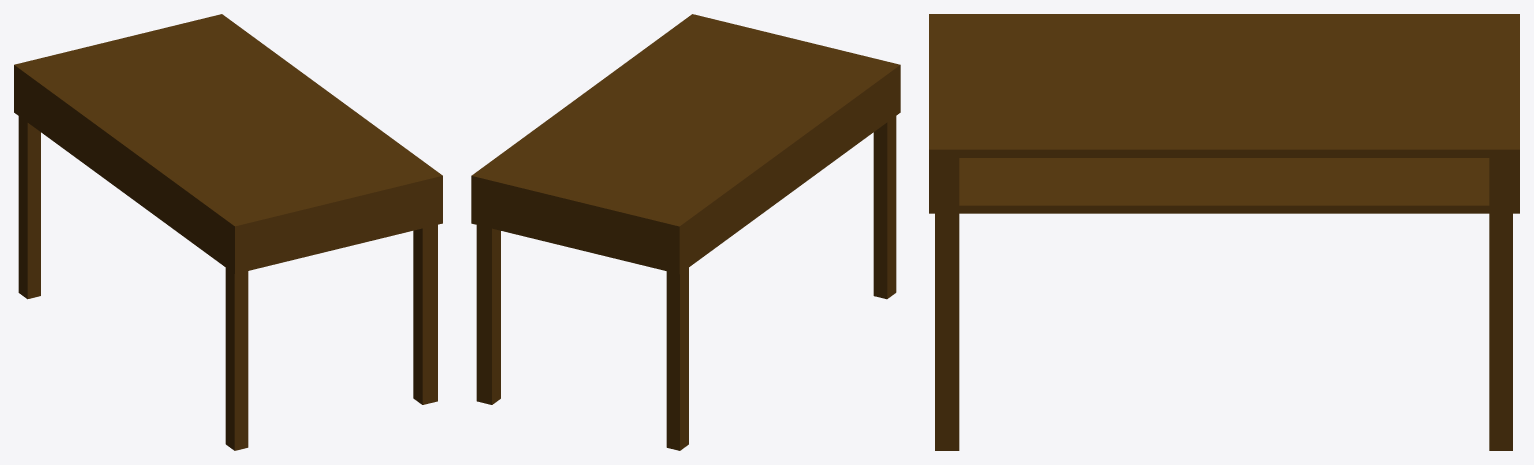
Rendered from SimpleDesk.fbx.
The picture shows the model from 3 angles, left to right: view 1: azimuth 30°, elevation 25°; view 2: azimuth 150°, elevation 25°; view 3: azimuth 270°, elevation 25°; orthographic projection. The views are drawn at different scales.
Parts seen in each view (by area): view 1: SimpleDesk; view 2: SimpleDesk; view 3: SimpleDesk.
Part boxes in pixels (<box>): SimpleDesk: <box>14,14,442,450</box>; SimpleDesk: <box>471,14,900,450</box>; SimpleDesk: <box>929,14,1519,450</box>.
Bounding box in the file's own units: 200 × 208 × 368.
